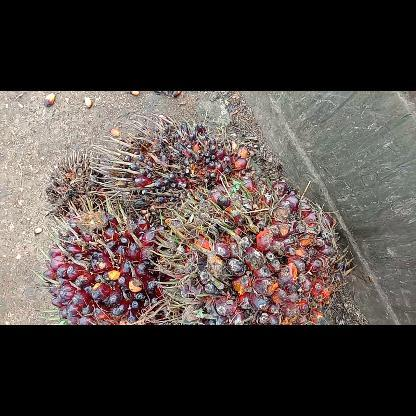TBS abnormal: (90, 111, 252, 223), (39, 147, 117, 225)
TBS masak: (148, 172, 356, 324), (31, 192, 175, 324)
